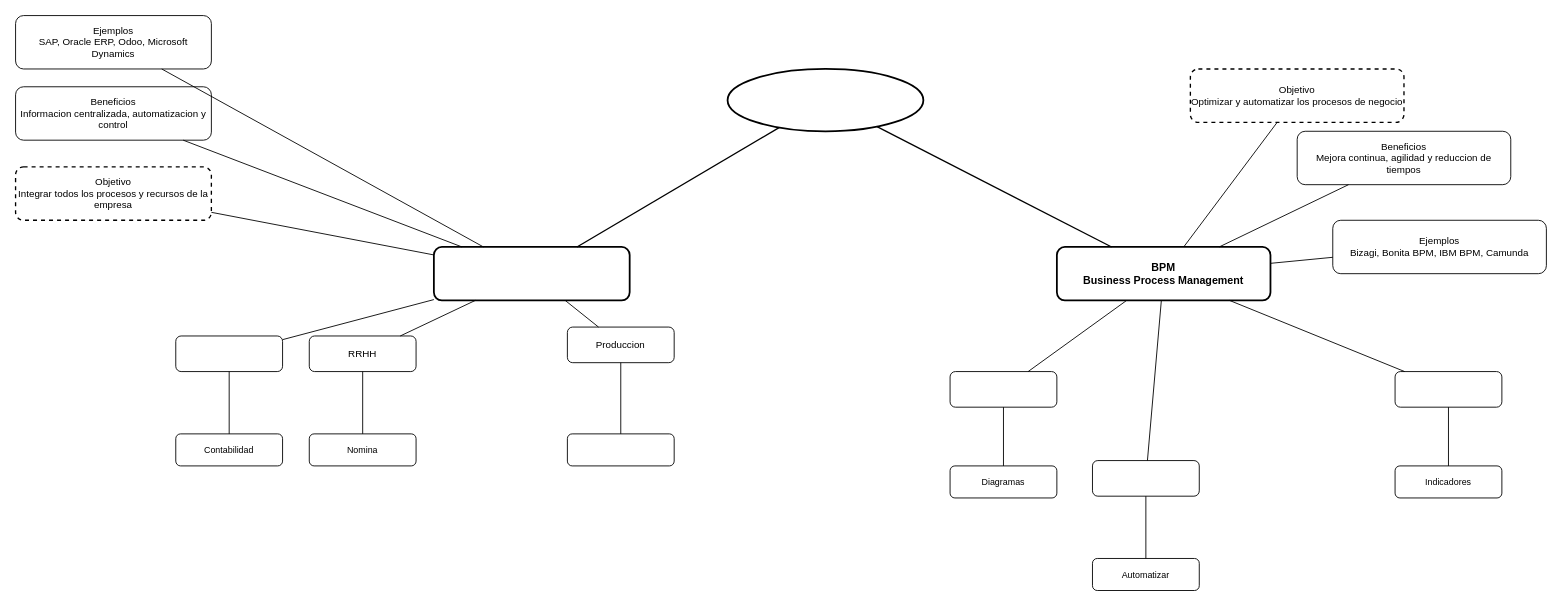
Some shapes in this 1563 by 606 pixel diagram are drawn without their labels. Here are the shapes that lost their labels. From the top down, the box of each, then its label:
(726, 68, 924, 132): ERP y BPM Sistemas de Informacion
(433, 246, 630, 301): ERP Enterprise Resource Planning
(175, 335, 283, 372): Finanzas
(949, 371, 1057, 407): Modelado
(1394, 371, 1502, 407): Monitoreo
(566, 433, 674, 466): Inventarios
(1092, 460, 1199, 496): Ejecucion
